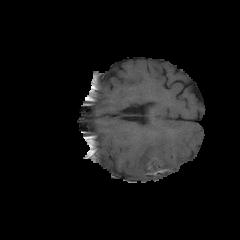glioma: (124, 126, 194, 177)
